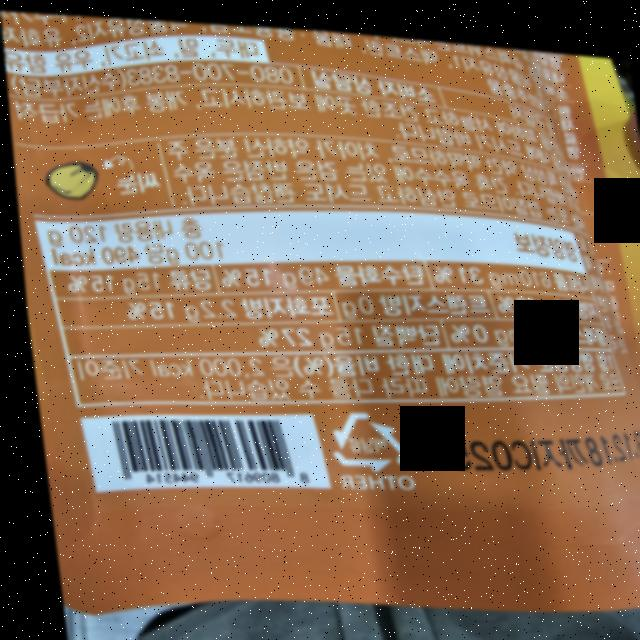Vinyl: (316, 397, 407, 469)
